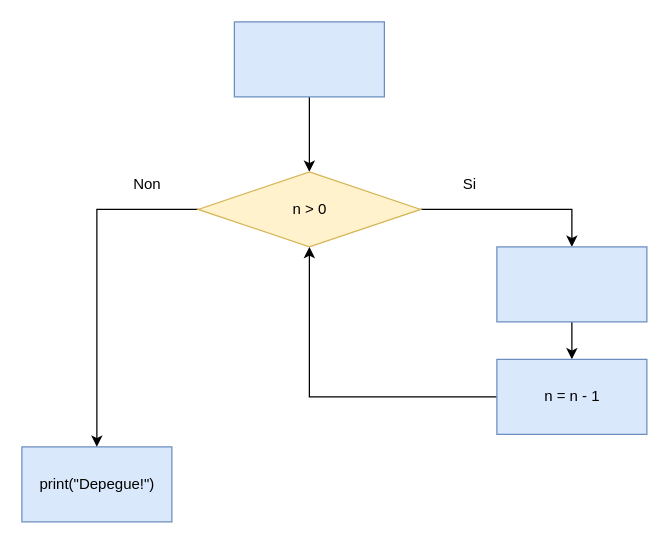
The diagram is 669 pixels wide and 544 high, and some of its shapes have lost their labels. The shapes that lost their labels are listed below. From the top down, each one's centre as x and y in pixels, then its label:
At (x=308, y=59): "n = 5".
At (x=571, y=284): "print (n)".
